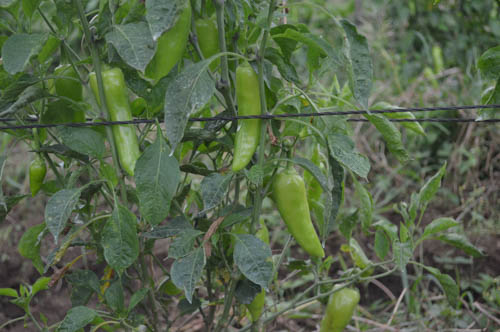ChiliPepper: (91, 68, 141, 177), (276, 171, 327, 265), (147, 5, 191, 81), (231, 67, 262, 174), (53, 68, 90, 128), (320, 283, 362, 331), (190, 19, 220, 66), (24, 163, 49, 197)
